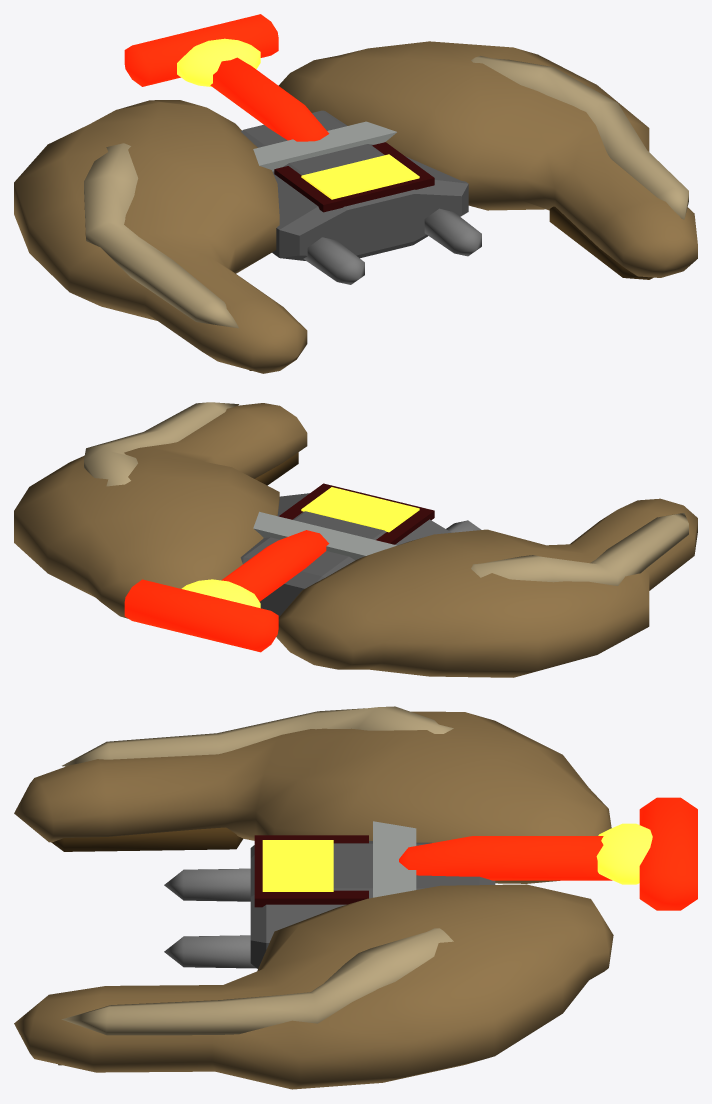
The model's file is newsh8-267-f2.glb.
The picture shows the model from 3 angles, top to bottom: view 1: azimuth 30°, elevation 25°; view 2: azimuth 150°, elevation 25°; view 3: azimuth 270°, elevation 25°; orthographic projection. The views are drawn at different scales.
Visible parts, largest first — view 1: newsh8-267-f2; view 2: newsh8-267-f2; view 3: newsh8-267-f2.
Part boxes in pixels (x1,y1,x2,y2): newsh8-267-f2: [14, 14, 697, 373]; newsh8-267-f2: [14, 402, 697, 677]; newsh8-267-f2: [14, 706, 697, 1089].
Size of the model in its own units: 1.65 by 0.29 by 1.44.
